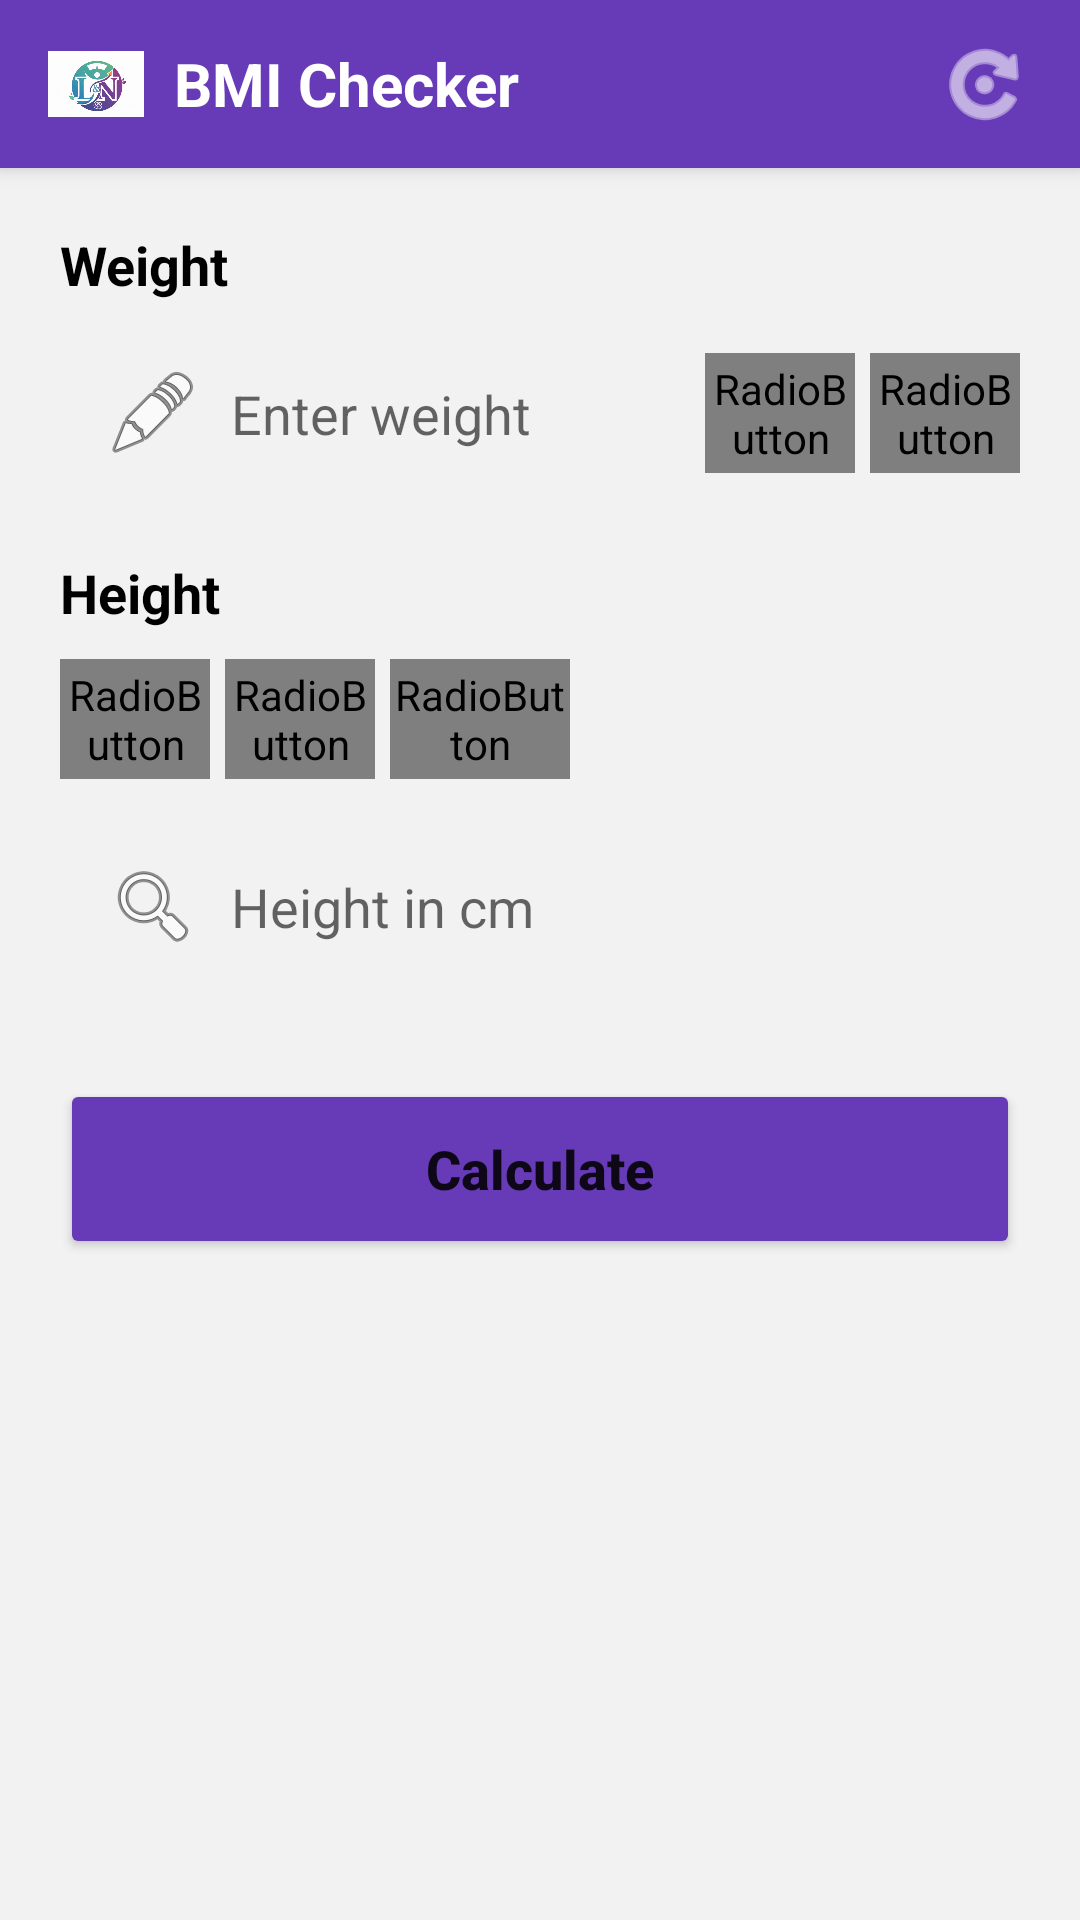

Where icons sit on this 1080x1920 app screen, as (x1, y1, x2, y2):
rotate: (949, 49, 1019, 120)
